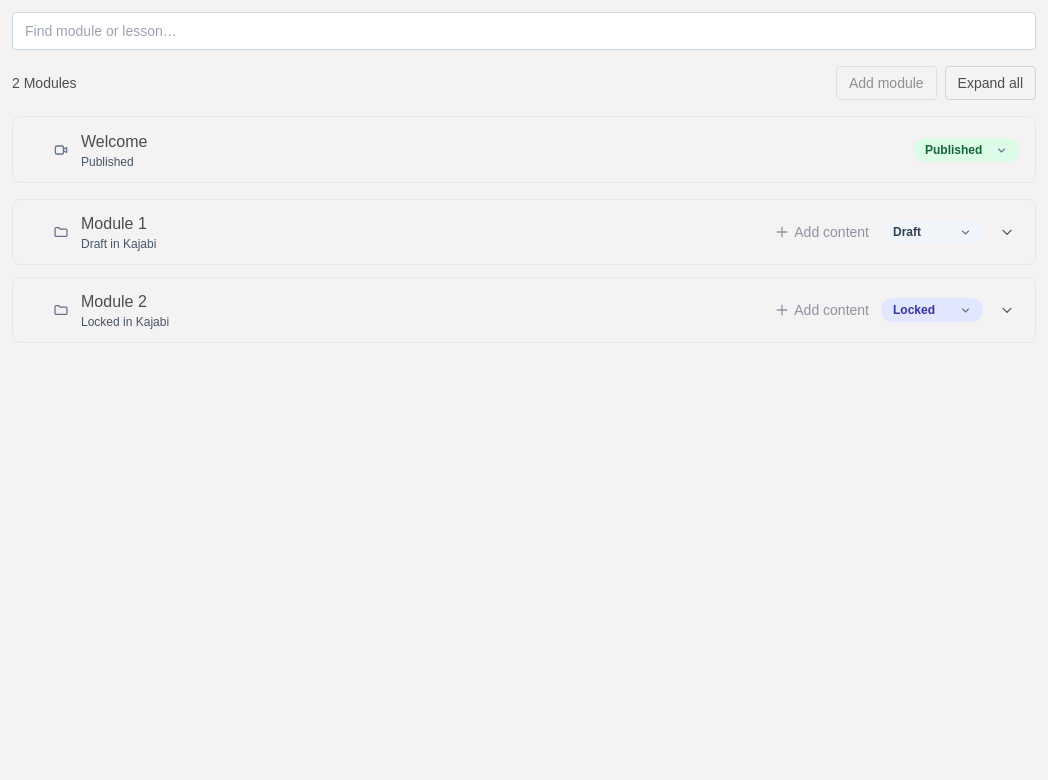
Scenario: BuilderOutline › shows each row's status in a menu that can't change yet, with Publish allowed anywhere (what is above only limits what members see)
This screenshot has width=1048, height=780.
Click the button "Expand all" at (990, 83), box x1=945 y1=66 x2=1036 y2=100
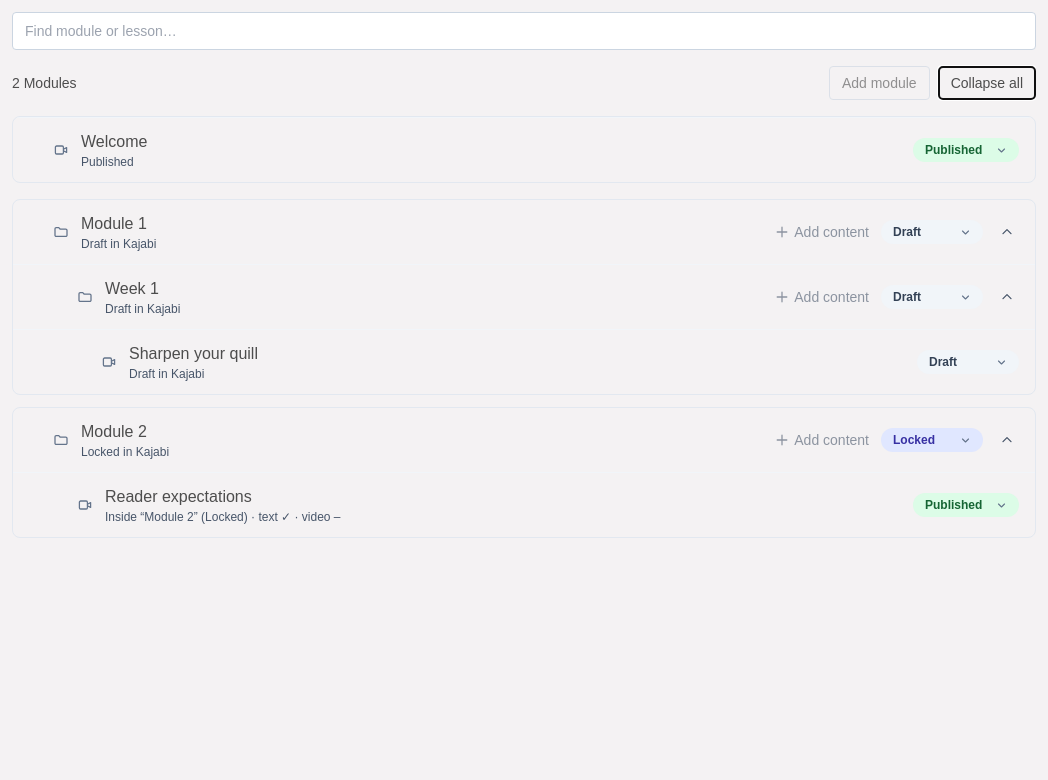
Check: the dropdown named "Status of Module 2" is disabled, box x1=881 y1=428 x2=983 y2=452
Check: the dropdown named "Status of Sharpen your quill" shows "Draft", box x1=917 y1=350 x2=1019 y2=374
